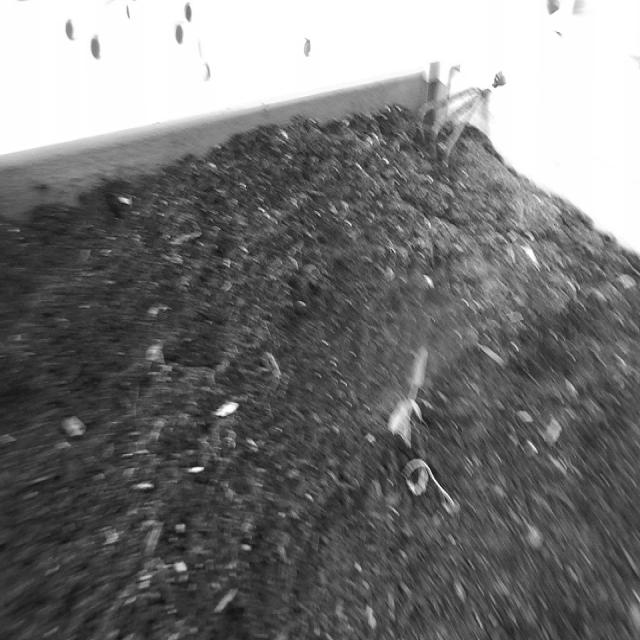Unhealthy: (382, 330, 474, 544)
